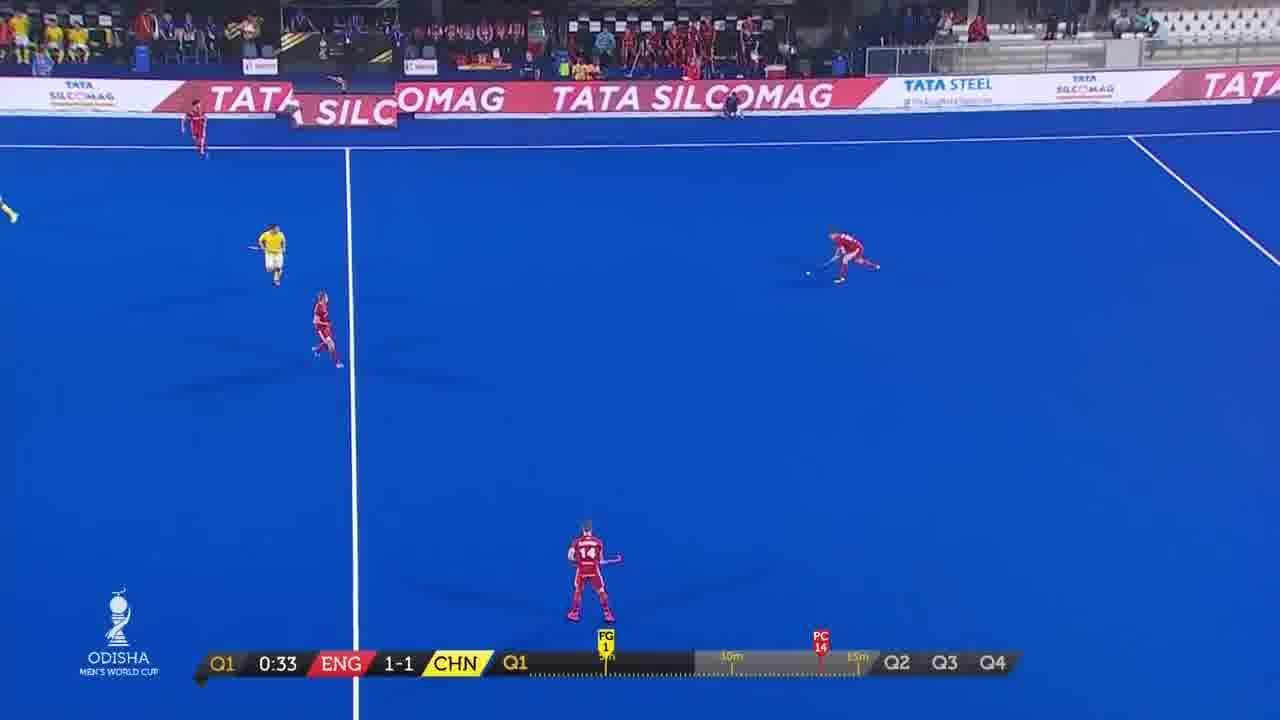ball: (800, 266, 820, 283)
